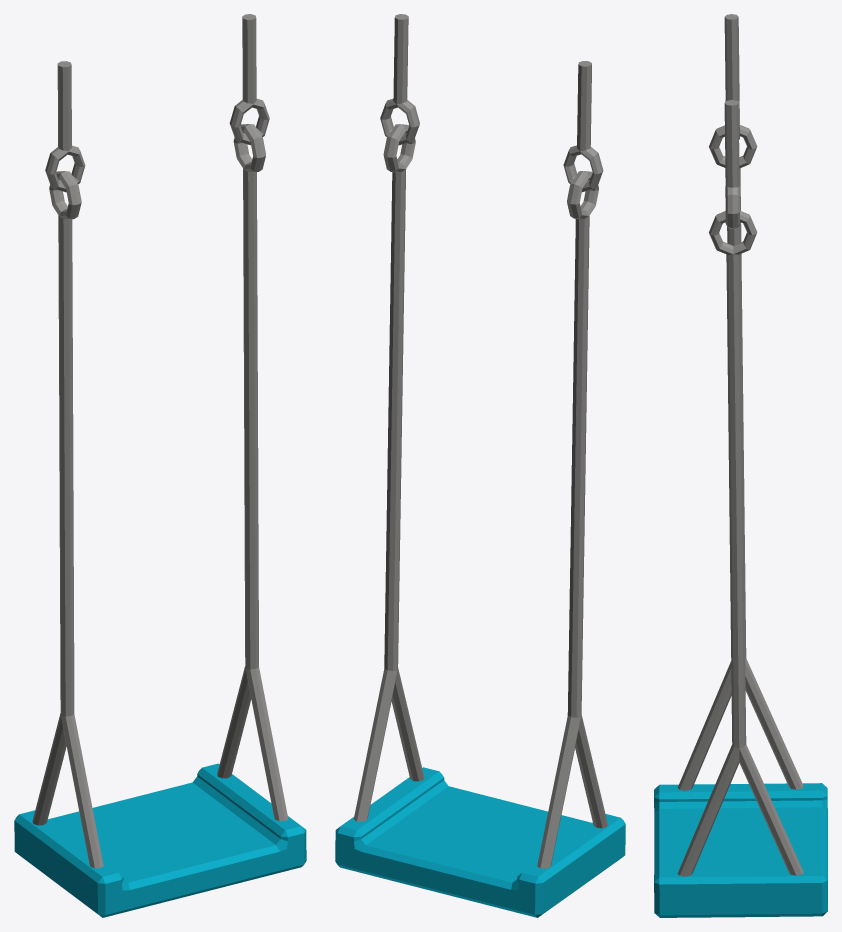
File: Playground_swings1.fbx
3 views of the same model, side by side, from view 1: azimuth 30°, elevation 25°; view 2: azimuth 150°, elevation 25°; view 3: azimuth 270°, elevation 25° (orthographic). The views are drawn at different scales.
Parts seen in each view (by area): view 1: Playground_swings1; view 2: Playground_swings1; view 3: Playground_swings1.
Part boxes in pixels (x1,y1,x2,y2): Playground_swings1: [14, 14, 306, 917]; Playground_swings1: [335, 14, 625, 917]; Playground_swings1: [654, 14, 827, 917].
Size of the model in its own units: 52.78 by 36.58 by 188.
